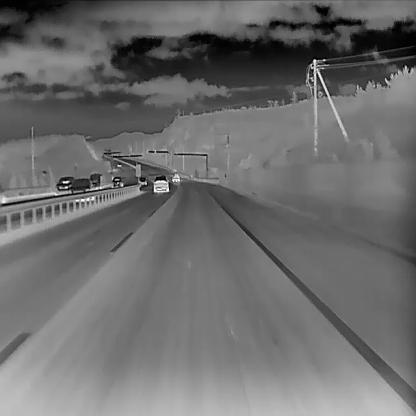car: (70, 177, 96, 202), (52, 175, 75, 196), (152, 175, 170, 192), (88, 172, 104, 189), (111, 176, 124, 189), (136, 176, 147, 186), (171, 172, 179, 181), (116, 161, 121, 166)
